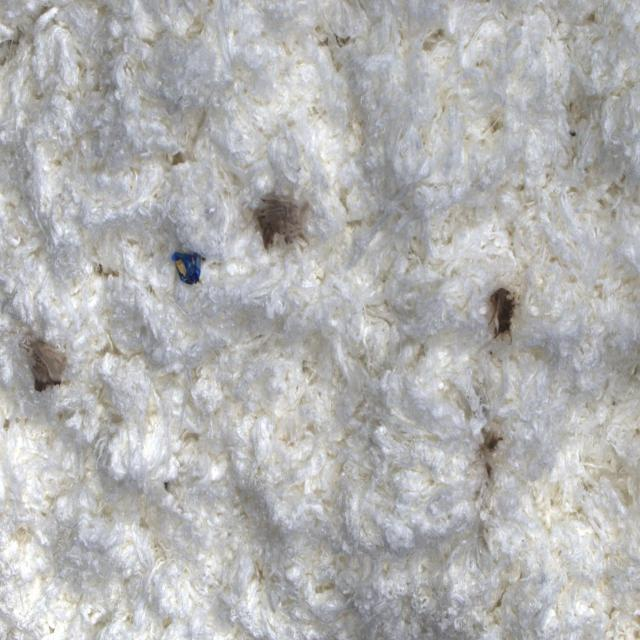dust: (247, 185, 318, 259), (22, 335, 74, 400), (475, 425, 504, 515), (485, 283, 523, 348), (166, 243, 206, 291)
